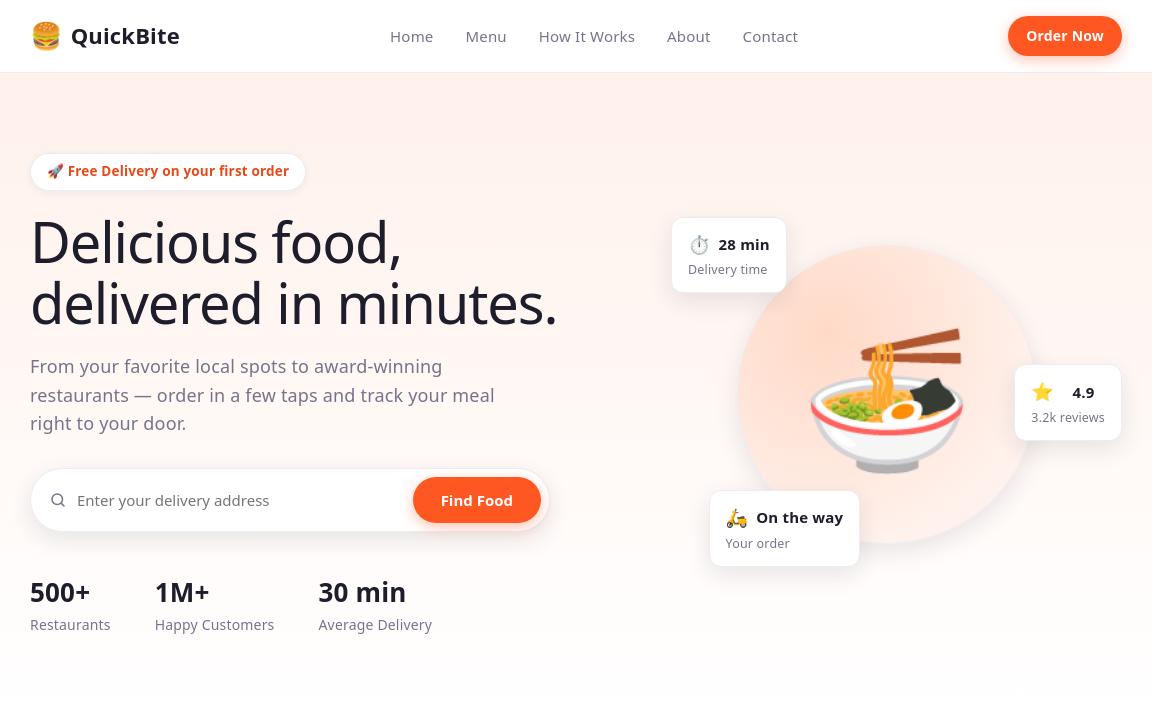
Test: Hero Section › trims the address before searching
Type "  Oak Avenue 12  " into the field labelled "Enter your delivery address" at (240, 500), box left=75, top=489, right=405, bottom=511
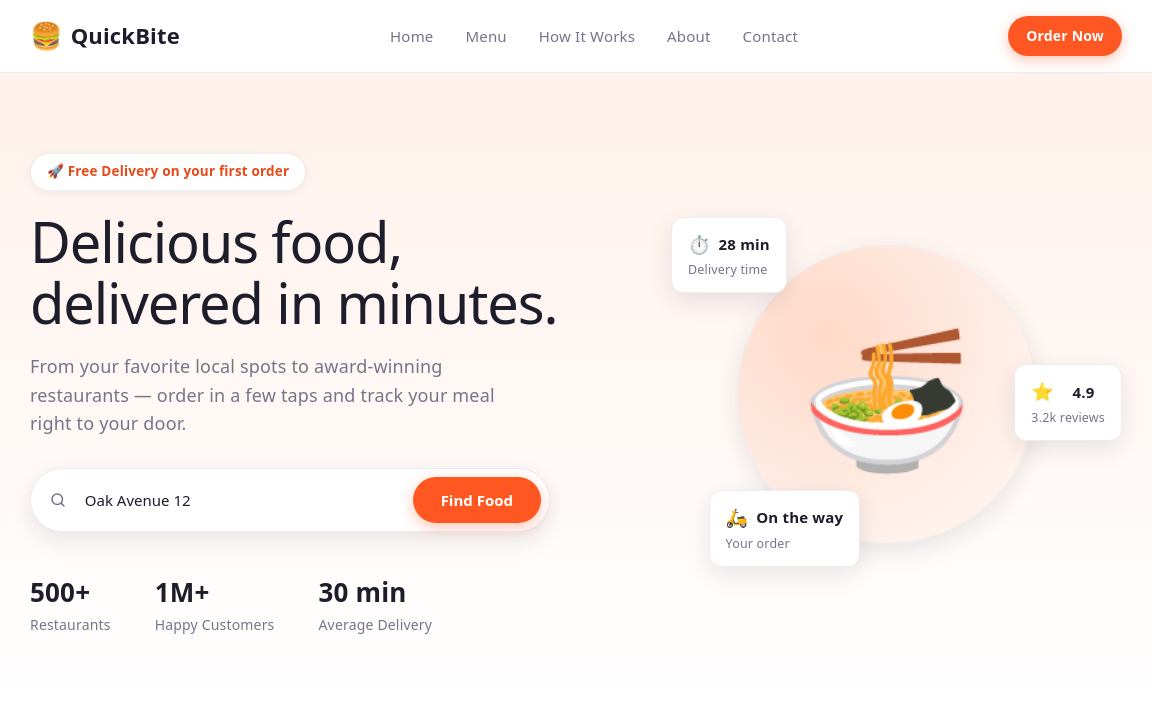
Click the button "Find Food" at (477, 500), box left=413, top=477, right=541, bottom=523
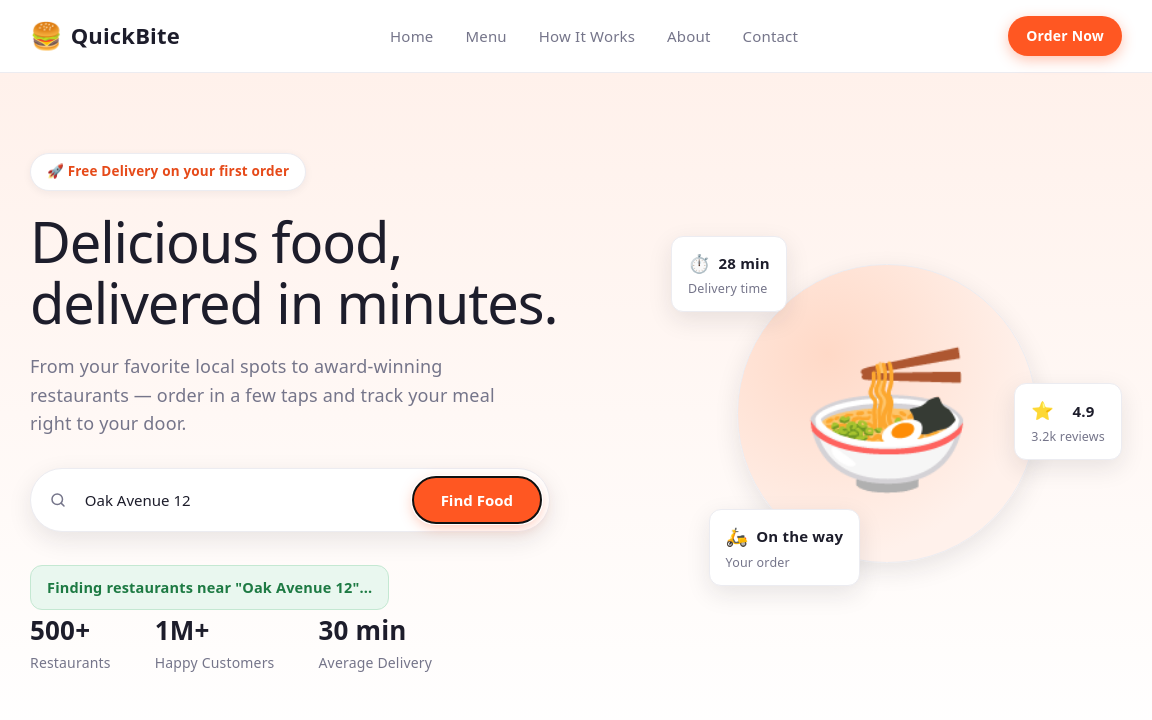
Check: the message reads "Finding restaurants near \"Oak Avenue 12\"...", box left=47, top=577, right=372, bottom=597
